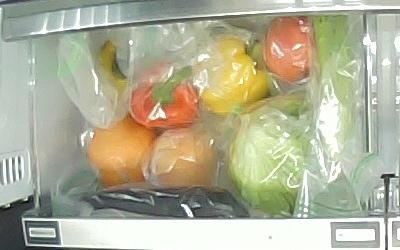apple_vinyl: (263, 16, 312, 83)
cucumber_vinyl: (311, 14, 353, 162)
eggplant_vinyl: (80, 187, 251, 219)
grapefruit_vinyl: (87, 118, 157, 188)
lettuce_vinyl: (229, 96, 308, 217)
paprika_vinyl: (197, 37, 270, 113), (128, 60, 200, 129)
peach_vinyl: (156, 128, 216, 188)
persimmon_vinyl: (98, 38, 128, 97)
